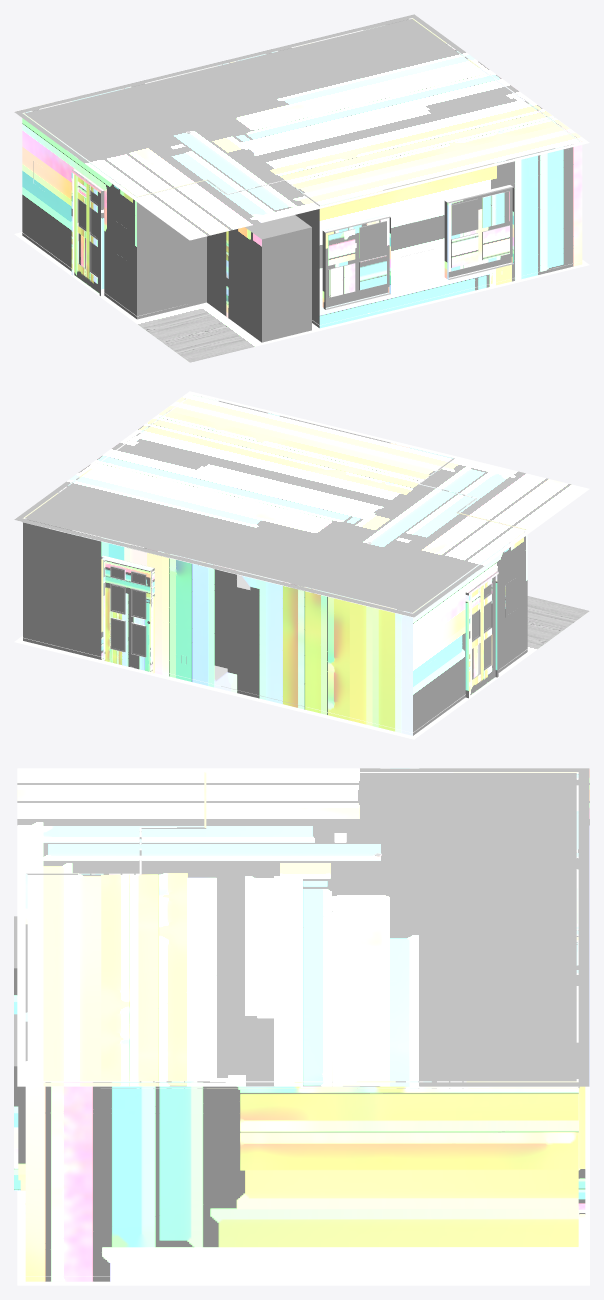
The model's file is WhiteRoom.dae.
3 renders of one model, top to bottom at view 1: azimuth 30°, elevation 25°; view 2: azimuth 150°, elevation 25°; view 3: azimuth 270°, elevation 25°, orthographic. The views are drawn at different scales.
Parts seen in each view (by area): view 1: enviro_Ceiling, enviro_walls, enviro_windows, enviro_Floor, enviro_Door_002, enviro_trim_top; view 2: enviro_Ceiling, enviro_walls, enviro_Door_003, enviro_Floor, enviro_Door_002, enviro_trim_top; view 3: enviro_Ceiling, enviro_walls, enviro_Floor, enviro_trim_top, enviro_windows, enviro_Door_003, enviro_baseBoard001.
Part boxes in pixels (box(x1,y1,x2,y2)): enviro_Ceiling: box(14, 14, 589, 240); enviro_walls: box(22, 111, 582, 342); enviro_windows: box(323, 186, 513, 313); enviro_Floor: box(14, 232, 589, 362); enviro_Door_002: box(71, 169, 104, 296); enviro_trim_top: box(22, 18, 581, 205); enviro_Ceiling: box(14, 391, 589, 617); enviro_walls: box(23, 395, 527, 735); enviro_Door_003: box(101, 555, 154, 673); enviro_Floor: box(14, 596, 589, 739); enviro_Door_002: box(465, 571, 498, 698); enviro_trim_top: box(22, 394, 527, 617); enviro_Ceiling: box(17, 768, 589, 1086); enviro_walls: box(18, 1082, 578, 1281); enviro_Floor: box(17, 1086, 589, 1285); enviro_trim_top: box(25, 772, 579, 1088); enviro_windows: box(14, 916, 20, 1190); enviro_Door_003: box(578, 1086, 585, 1217); enviro_baseBoard001: box(25, 1190, 579, 1276).
Bounding box in the file's own units: 5.93 × 1.74 × 4.54.
Materials: 3 (1 with a texture image).
